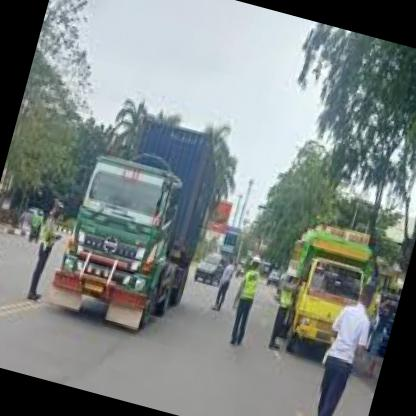truck: (52, 147, 194, 334), (284, 250, 376, 375)
